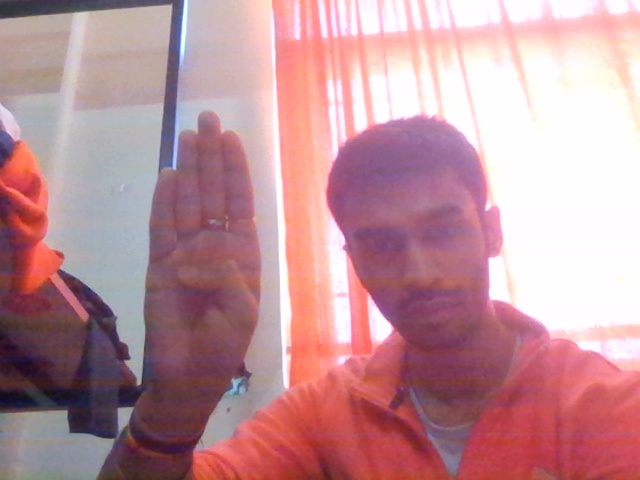B: (125, 104, 283, 432)
